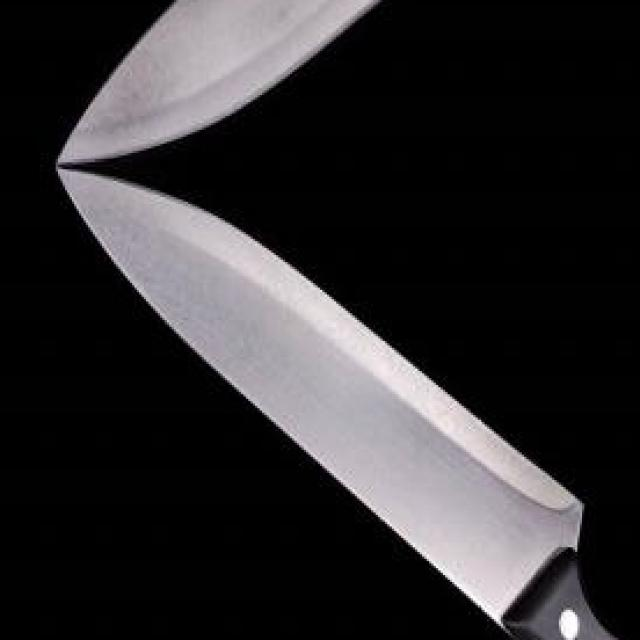knife: (51, 167, 640, 640), (37, 0, 480, 163)
